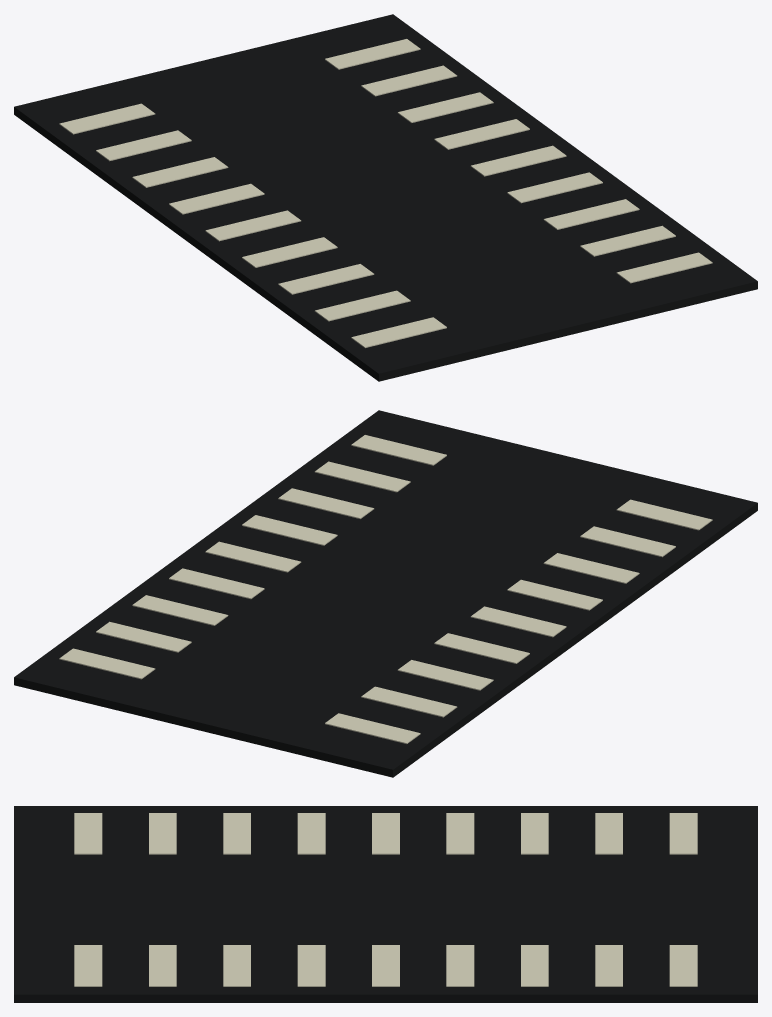
Rendered from intersection.obj.
3 views of the same model, one above another, from view 1: azimuth 30°, elevation 25°; view 2: azimuth 150°, elevation 25°; view 3: azimuth 270°, elevation 25° (orthographic).
Visible parts, largest first — view 1: Asphalt, White_Paint; view 2: Asphalt, White_Paint; view 3: Asphalt, White_Paint.
Part boxes in pixels (bbox=[...]): Asphalt: bbox=[14, 14, 757, 381]; White_Paint: bbox=[59, 39, 712, 347]; Asphalt: bbox=[14, 410, 757, 777]; White_Paint: bbox=[59, 435, 712, 743]; Asphalt: bbox=[14, 806, 757, 1002]; White_Paint: bbox=[74, 813, 697, 986].
Size of the model in its own units: 12 by 0.271 by 20.
